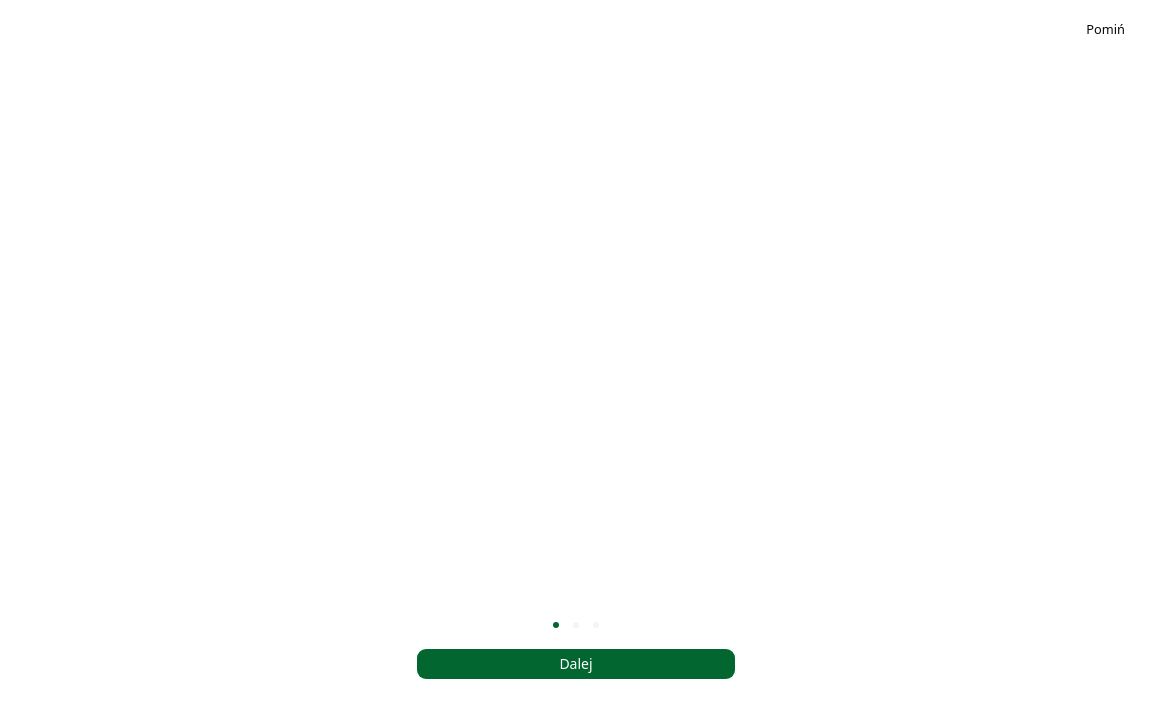
Test case: OnboardingOverlay › przechodzi do kolejnych slajdów i kończy na ostatnim
Step 1. Click the button "Dalej" → (576, 664), box [416,648,736,680]
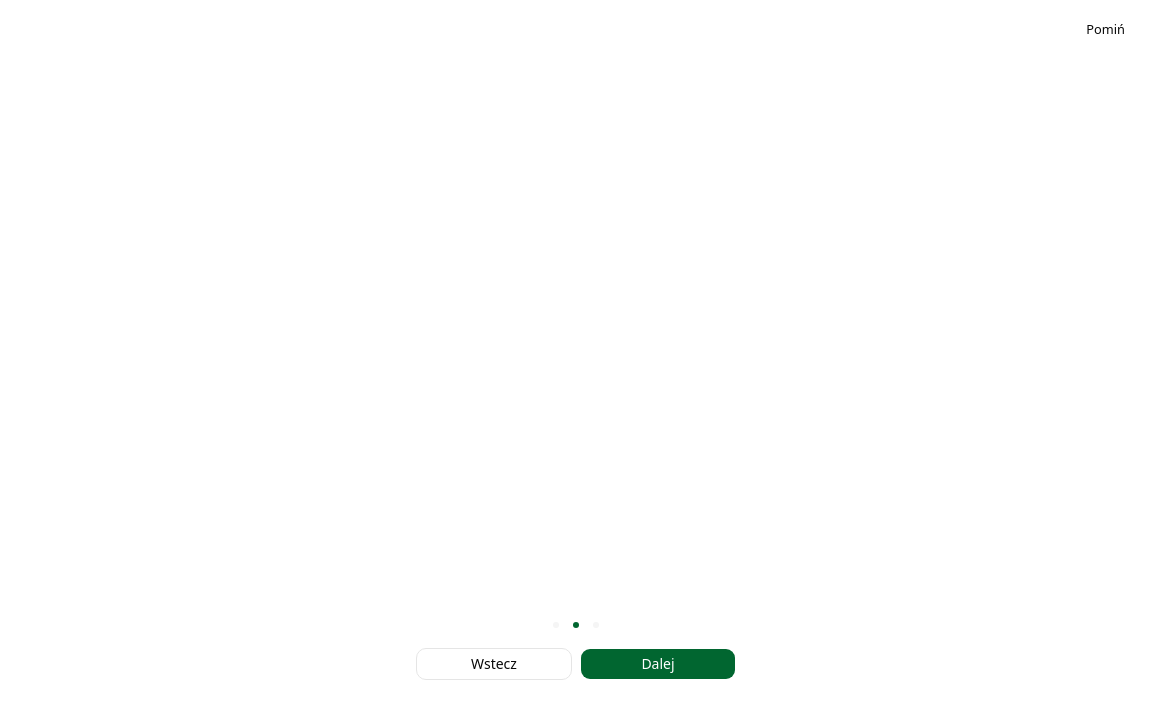
Step 2. Click the button "Dalej" → (658, 664), box [580,648,736,680]
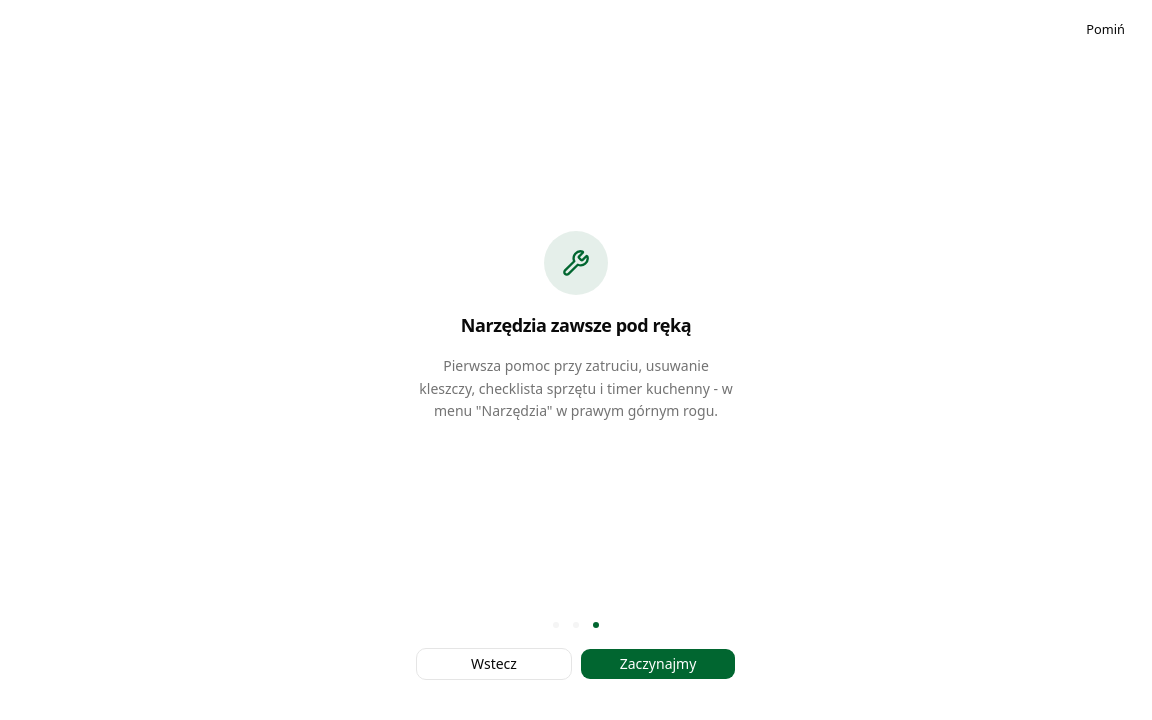
Expected: the heading "Narzędzia zawsze pod ręką" is shown, [461,311,691,339]
Expected: the button "Zaczynajmy" is shown, [580,648,736,680]
